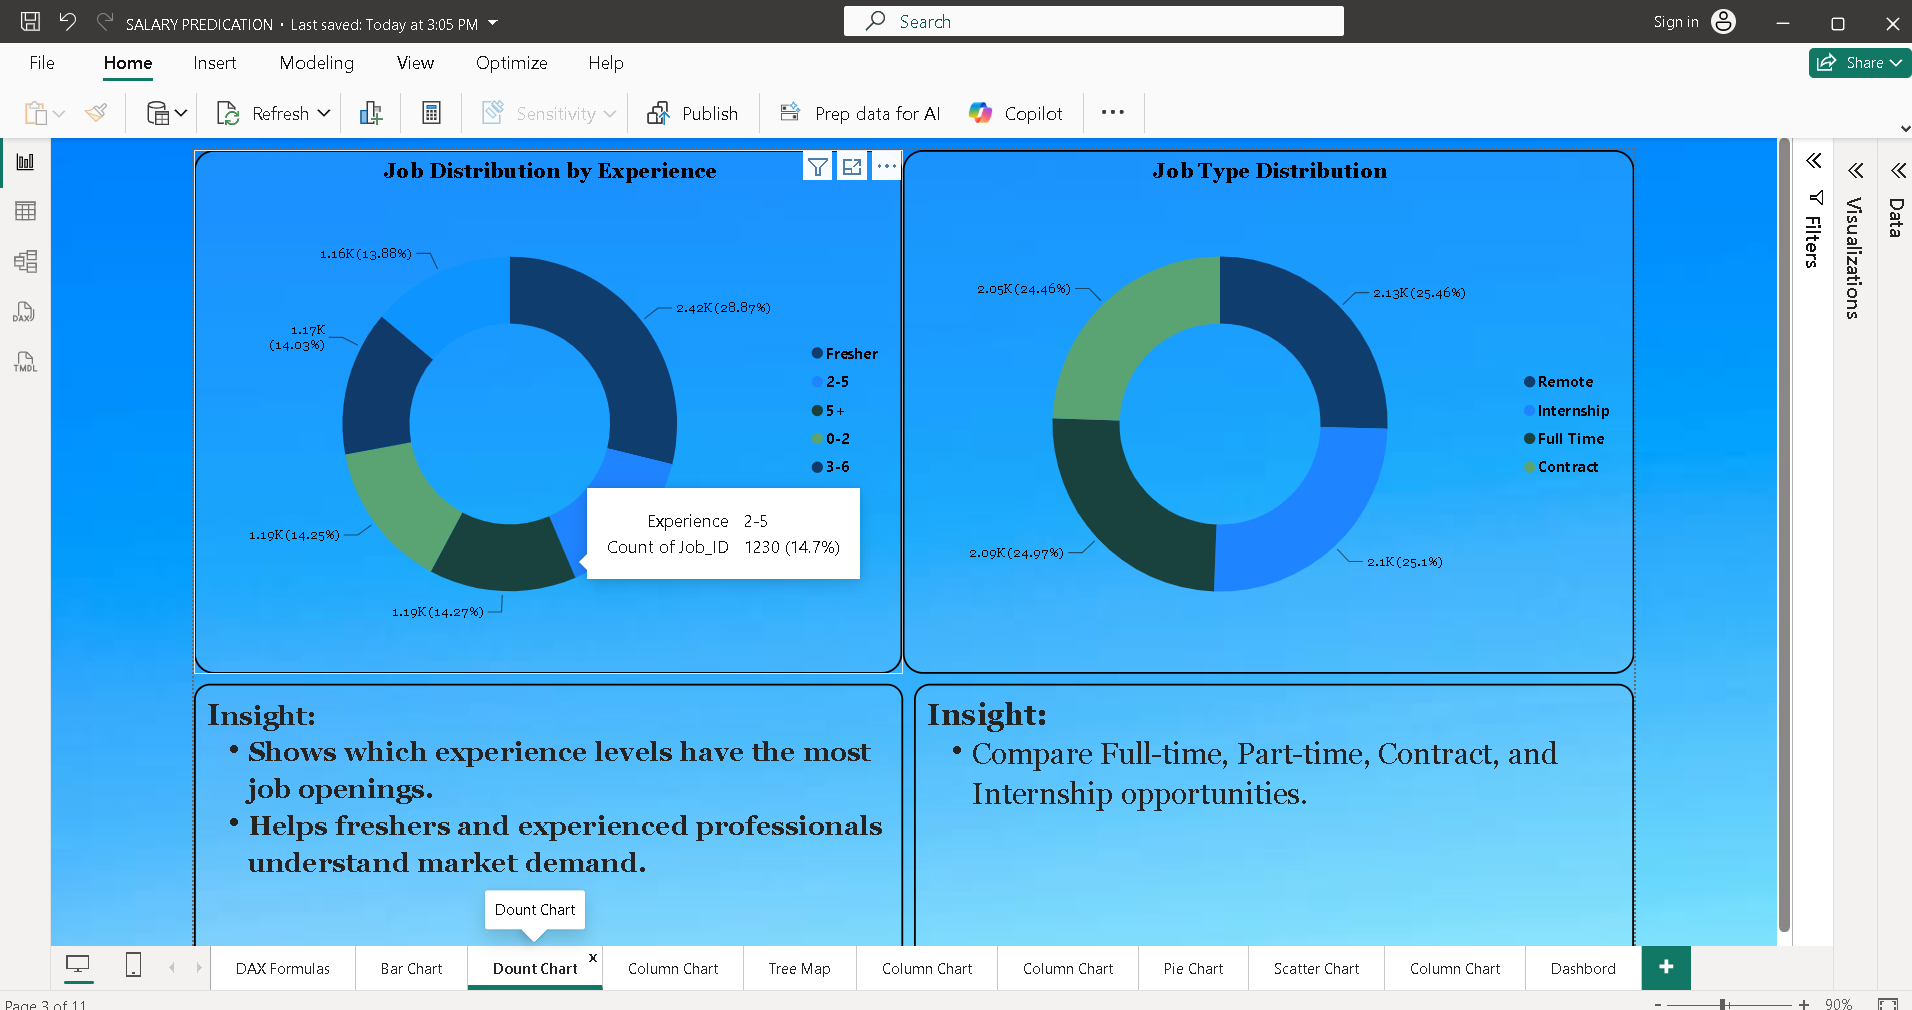

This screenshot's page, from the dashboard's own definition file:
{"tool":"powerbi","page":{"name":"Dount Chart ","canvas":[1280,720],"ordinal":2},"visuals":[{"type":"donutChart","title":"Job Distribution by Experience","fields":{"Category":["clean_job_market_salary_fixed.Experience"],"Y":["CountNonNull(clean_job_market_salary_fixed.Job_ID)"]},"box":[0,0,629.8,465.9],"z":0},{"type":"textbox","box":[0,474.4,630,245.6],"z":1000},{"type":"donutChart","title":"Job Type Distribution","fields":{"Category":["clean_job_market_salary_fixed.Job_Type"],"Y":["CountNonNull(clean_job_market_salary_fixed.Job_ID)"]},"box":[629.8,0,650.5,465.9],"z":2000},{"type":"textbox","box":[640,474.4,640,245.6],"z":3000}]}

Visuals, with their boxes on the page's 1280x720 design canvas (x1, y1, x2, y2). These are canvas units, not pixel positions in the 1912x1010 screenshot, which may show the page scaled, cropped or inside an application window:
"Job Distribution by Experience" donutChart: bbox(0, 0, 630, 466)
textbox: bbox(0, 474, 630, 720)
"Job Type Distribution" donutChart: bbox(630, 0, 1280, 466)
textbox: bbox(640, 474, 1280, 720)
